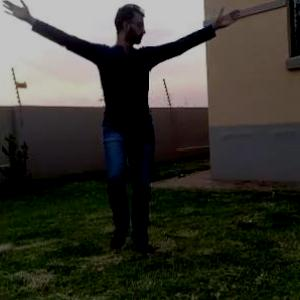takeoff: (1, 0, 244, 286)
